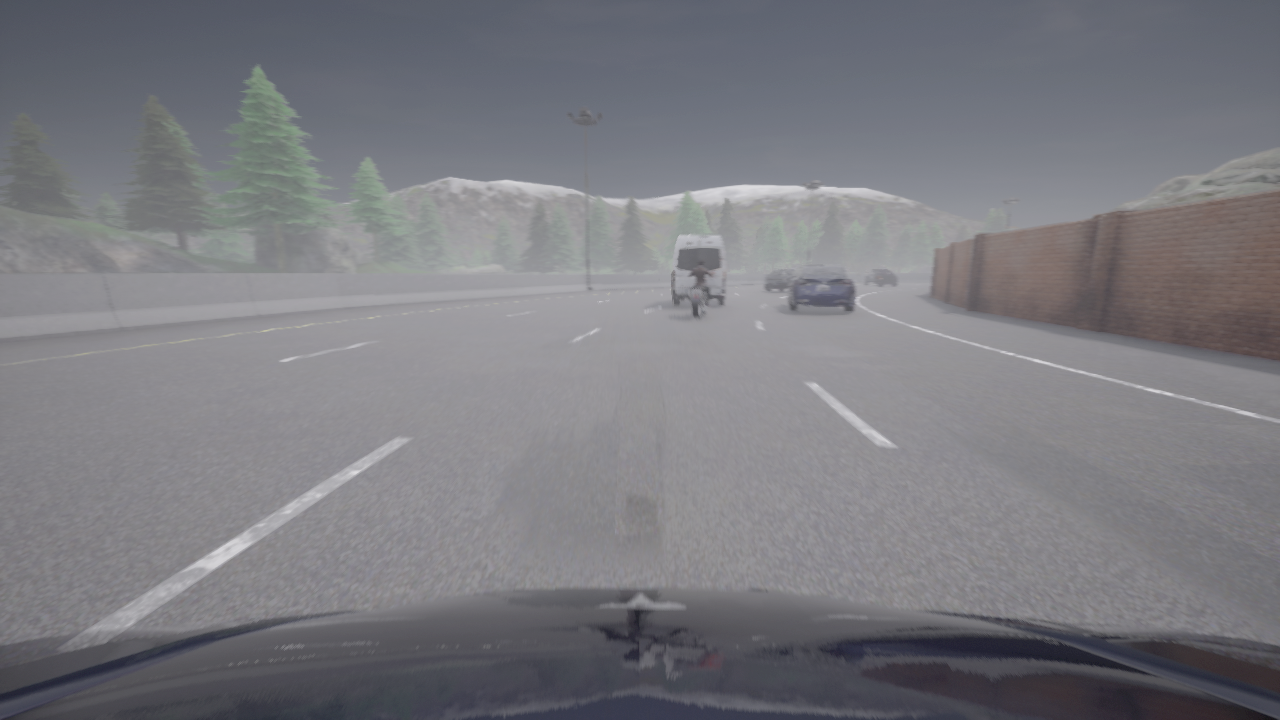cyclist: (0, 588, 1279, 719), (671, 236, 727, 306), (786, 265, 854, 312), (689, 276, 710, 318), (765, 270, 795, 291), (863, 270, 896, 286)
